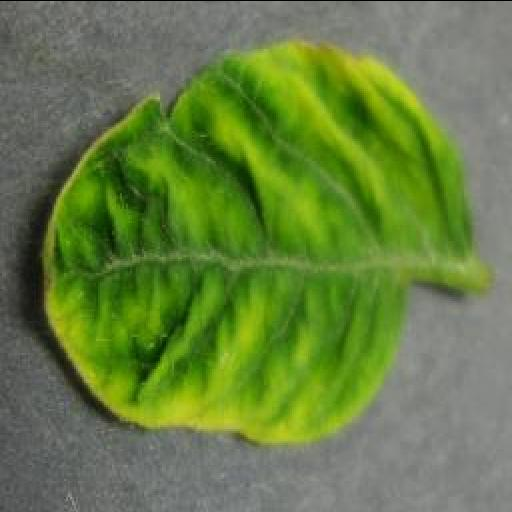disease_tomato: (40, 38, 474, 446)
